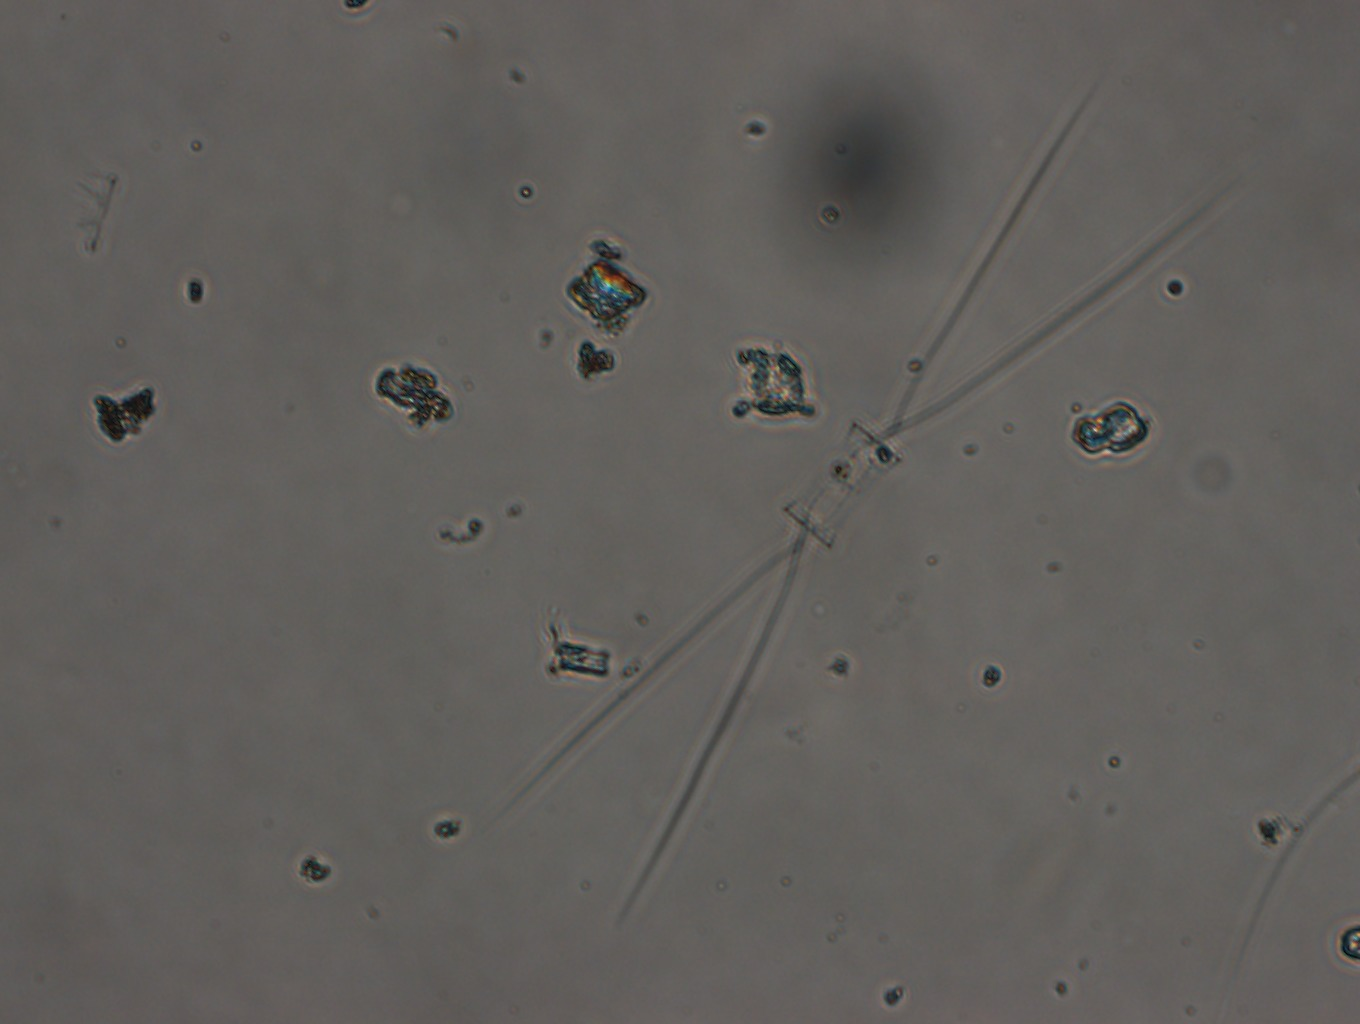chaetoceros: (531, 87, 1206, 918)
